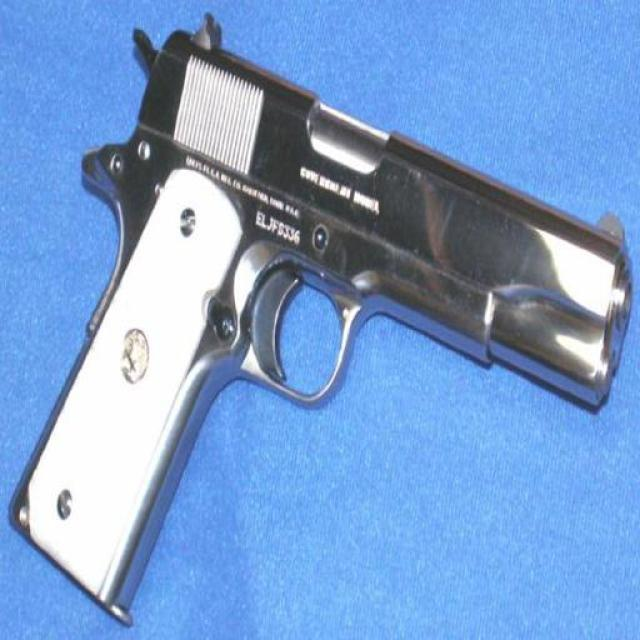pistol: (1, 22, 623, 626)
